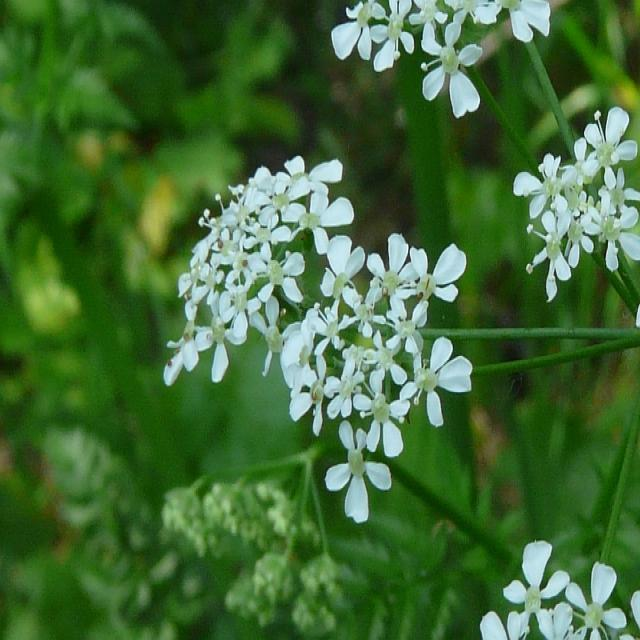Poisonous-Hemlock: (163, 161, 456, 528), (481, 103, 640, 640), (302, 0, 640, 116)
